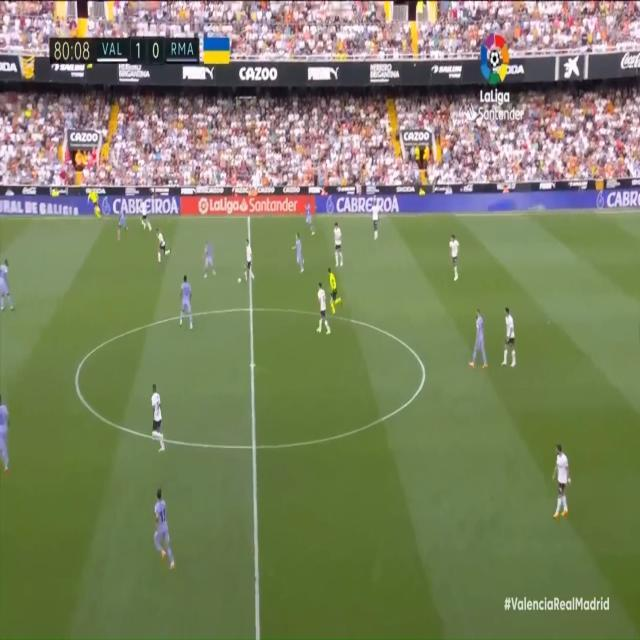ball: (238, 275, 244, 289)
player: (150, 488, 177, 572), (551, 437, 574, 523), (150, 378, 168, 455), (0, 384, 14, 473), (470, 306, 488, 373), (177, 273, 196, 331), (315, 277, 332, 339), (501, 304, 517, 369), (0, 254, 15, 315), (202, 235, 218, 283), (447, 230, 461, 283), (332, 220, 346, 272), (243, 234, 256, 286), (304, 193, 318, 241), (136, 196, 153, 235), (292, 230, 306, 277), (156, 226, 172, 264), (115, 199, 129, 242), (370, 196, 381, 241)
referee: (326, 263, 345, 317), (87, 183, 103, 220)
